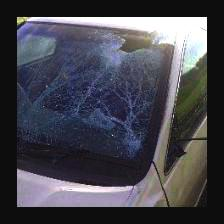glass_shatter: (23, 28, 175, 176)
